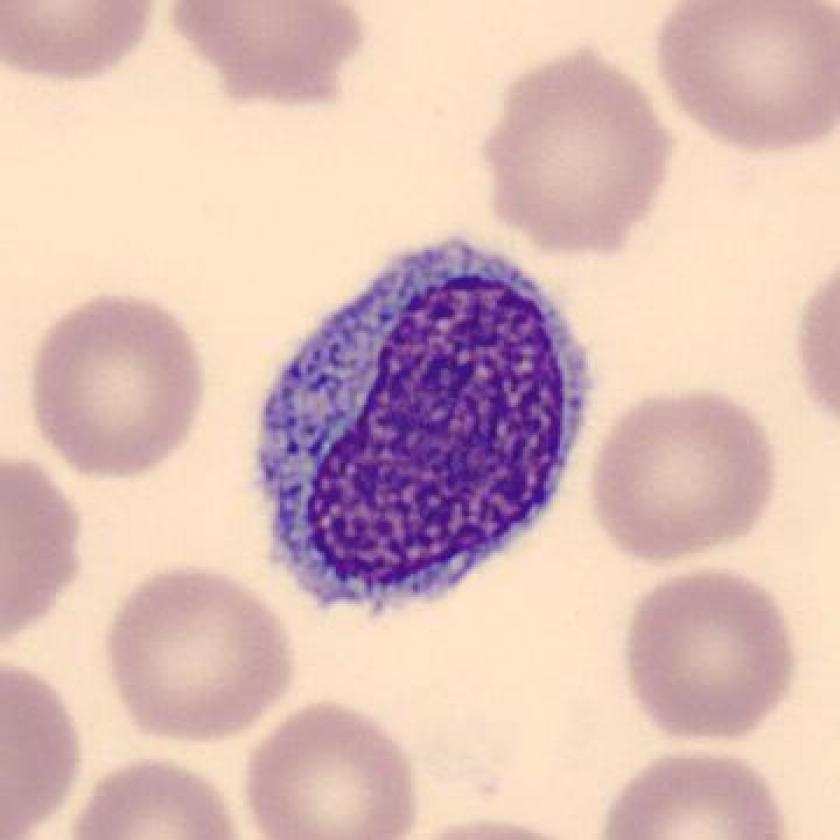monocyte: (230, 223, 610, 635)
